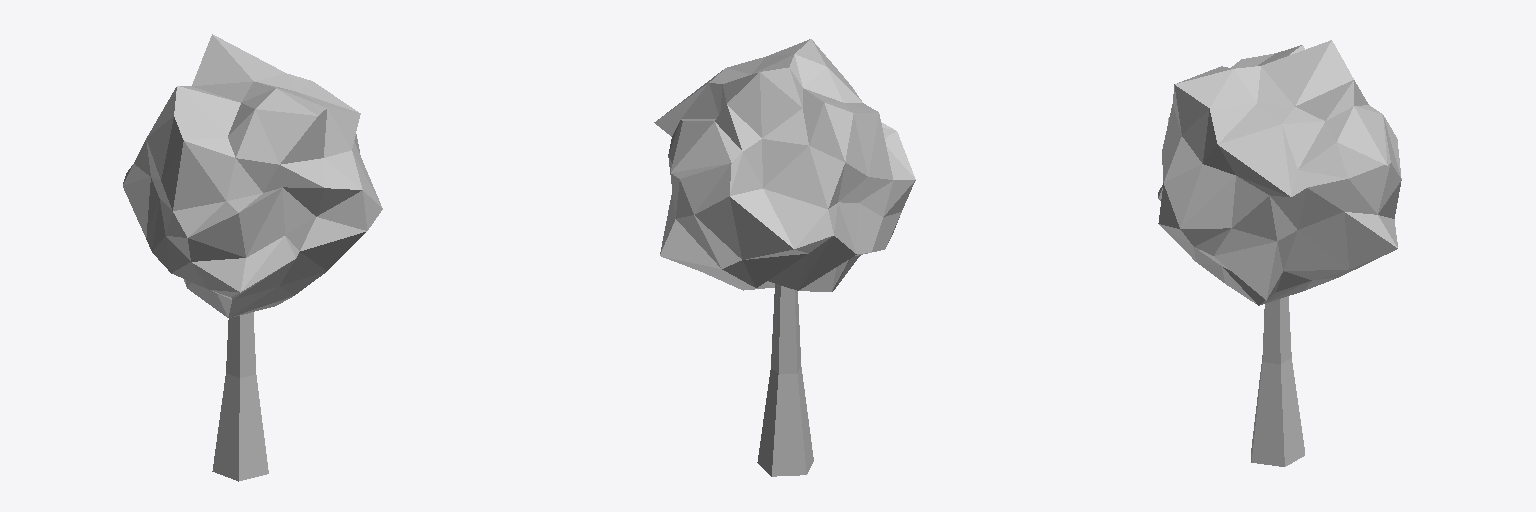
The model's file is tree3.obj.
3 views of the same model, side by side, from view 1: azimuth 30°, elevation 25°; view 2: azimuth 150°, elevation 25°; view 3: azimuth 270°, elevation 25° (orthographic).
Parts seen in each view (by area): view 1: default; view 2: default; view 3: default.
Boxes of the visible parts, <box> form: default: <box>123,34,382,481</box>; default: <box>654,39,915,476</box>; default: <box>1158,40,1401,466</box>.
Size of the model in its own units: 1.52 by 2.79 by 1.48.